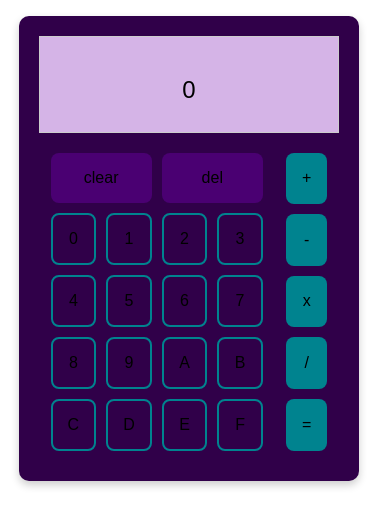
Test: Hex Calculator operations › should click on "1" and have the display show "1"
Click the button "1". click: (129, 239)
box: [106,213,152,265]
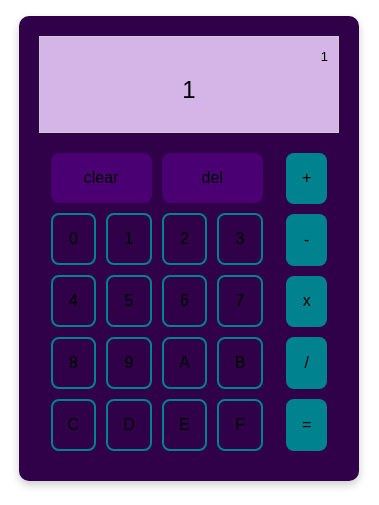
Result: the text with class "display" reads "1" at [182,76,195,103]
